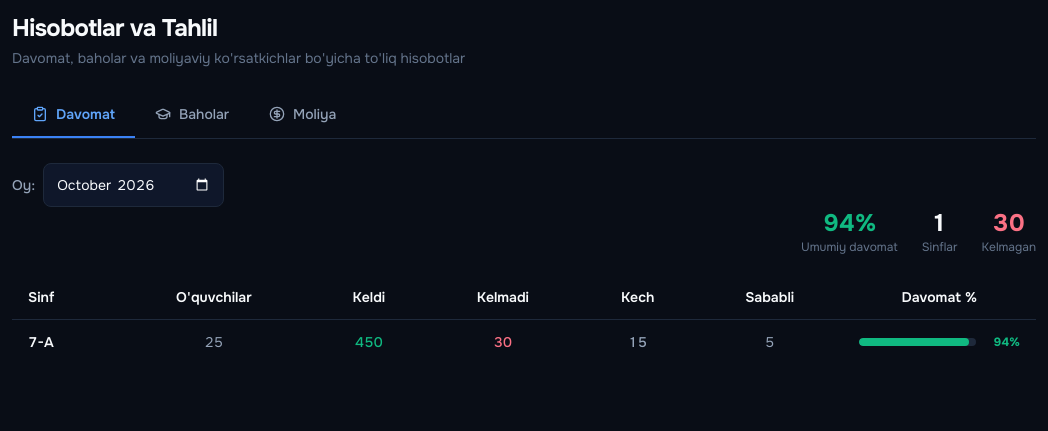
ReportsPage › switches to grades tab and shows subject data
Click the button "Baholar" at (192, 115), box [135,92,249,138]
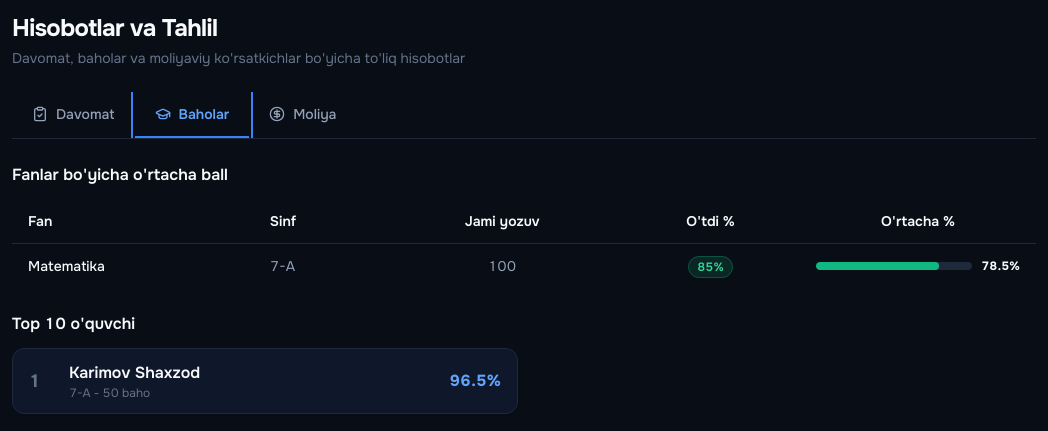
Expected: the text "Matematika" is shown, [12,244,254,288]
Expected: the text "Karimov Shaxzod" is shown, [69,362,200,383]
